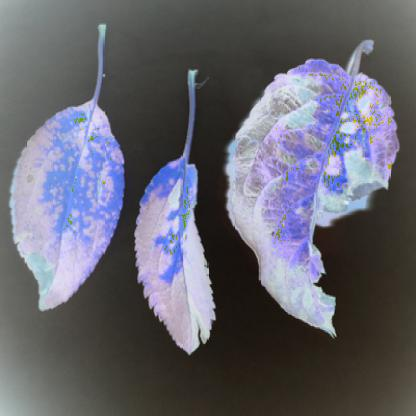apple rust leaf: (223, 25, 406, 347), (6, 98, 130, 331), (134, 148, 225, 373)
